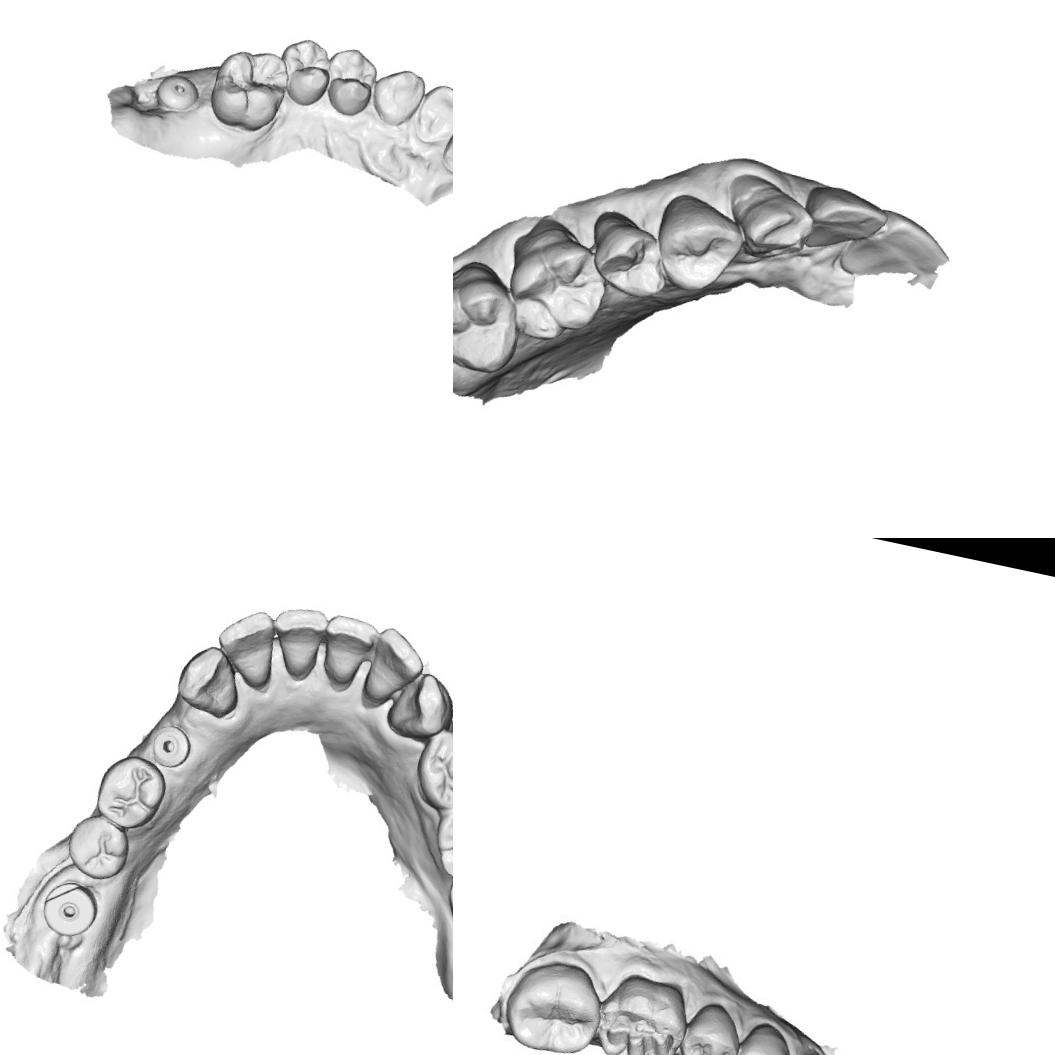canine: (717, 169, 817, 265), (169, 638, 255, 726), (380, 665, 453, 746), (367, 64, 428, 131)
implant: (36, 878, 102, 944), (146, 720, 194, 767), (154, 68, 202, 114)
incisor: (837, 202, 959, 296), (798, 181, 894, 264), (209, 602, 284, 690), (359, 624, 429, 710), (266, 600, 332, 684), (314, 608, 380, 692), (415, 77, 453, 143)
inlay: (592, 1000, 687, 1055)
molar: (495, 226, 617, 351), (500, 954, 611, 1055), (205, 42, 294, 138), (453, 269, 530, 378), (90, 750, 172, 834), (59, 804, 139, 886), (427, 794, 453, 884)
premolar: (648, 192, 746, 301), (586, 216, 676, 305), (272, 33, 336, 110), (320, 44, 381, 119), (674, 995, 745, 1055), (410, 723, 453, 814), (730, 1017, 800, 1055)
